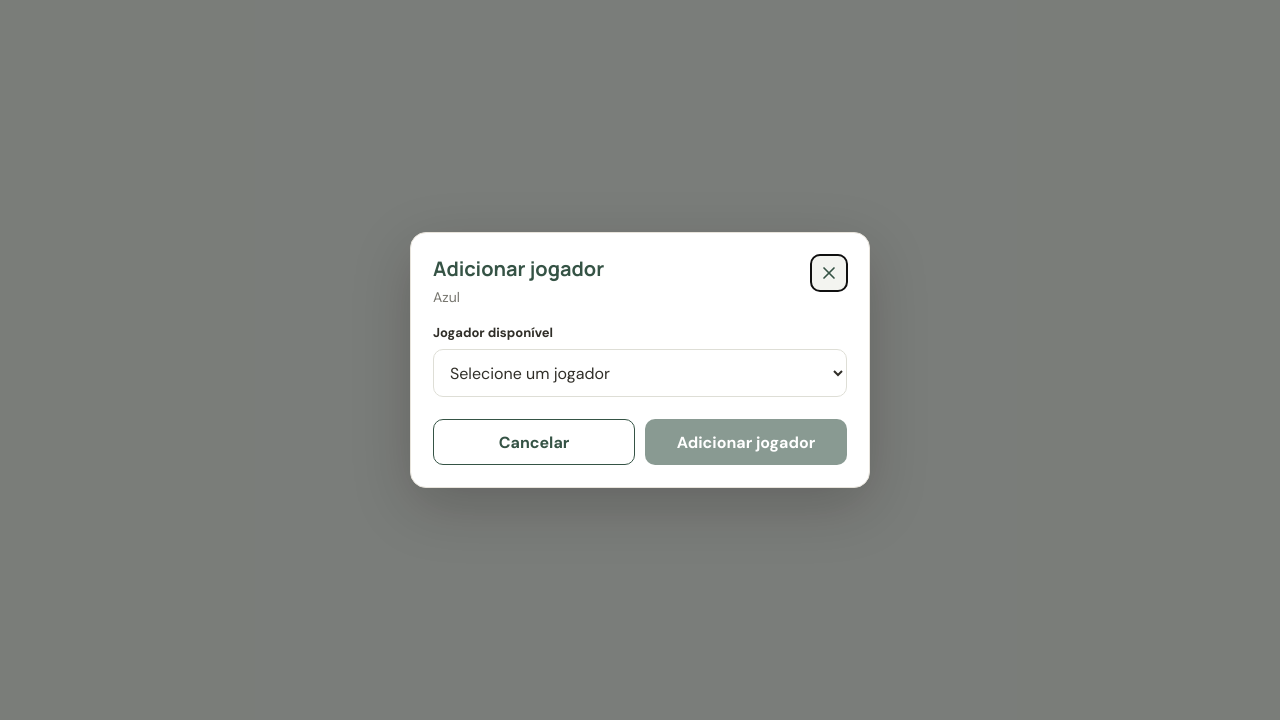
Test case: modal e integração da inclusão manual › exibe o texto retornado pelo backend sem fechar o modal
Select "Caio — Vaga de reserva" in the dropdown labelled "Jogador disponível" at coordinates (640, 373), box [433, 349, 847, 397]
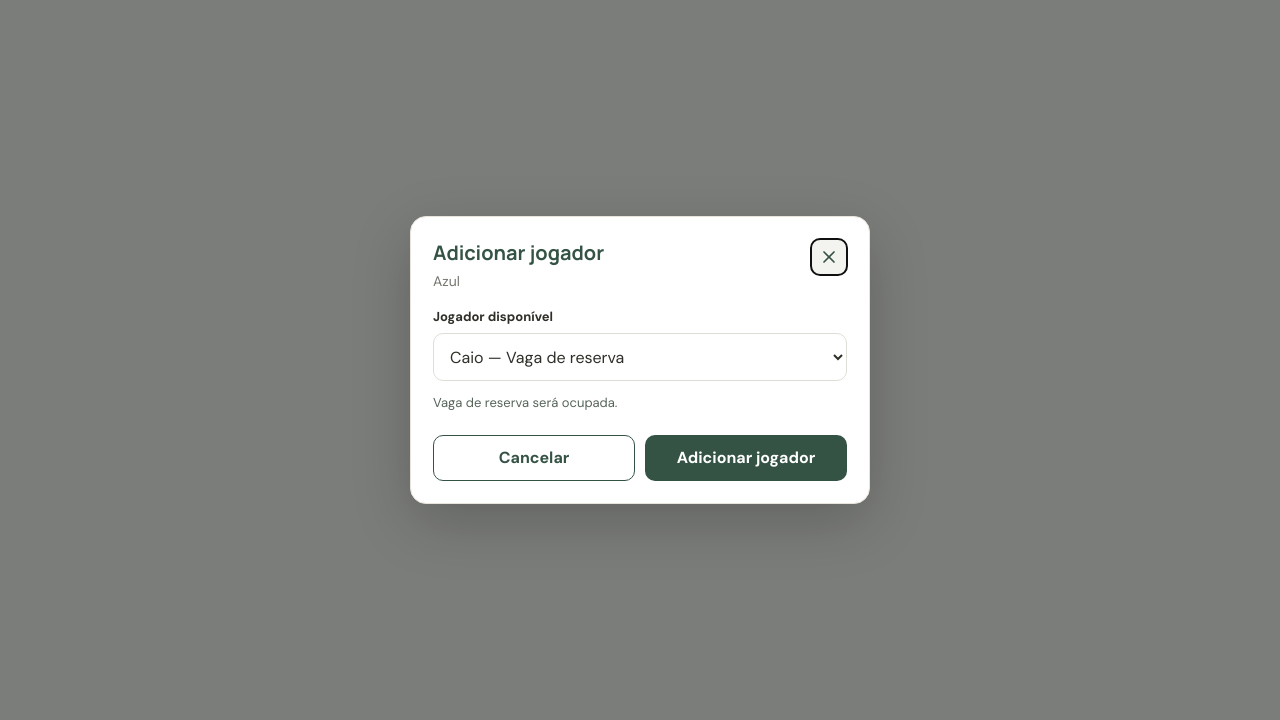
Click the button "Adicionar jogador".
click(746, 458)  # box [645, 435, 847, 481]
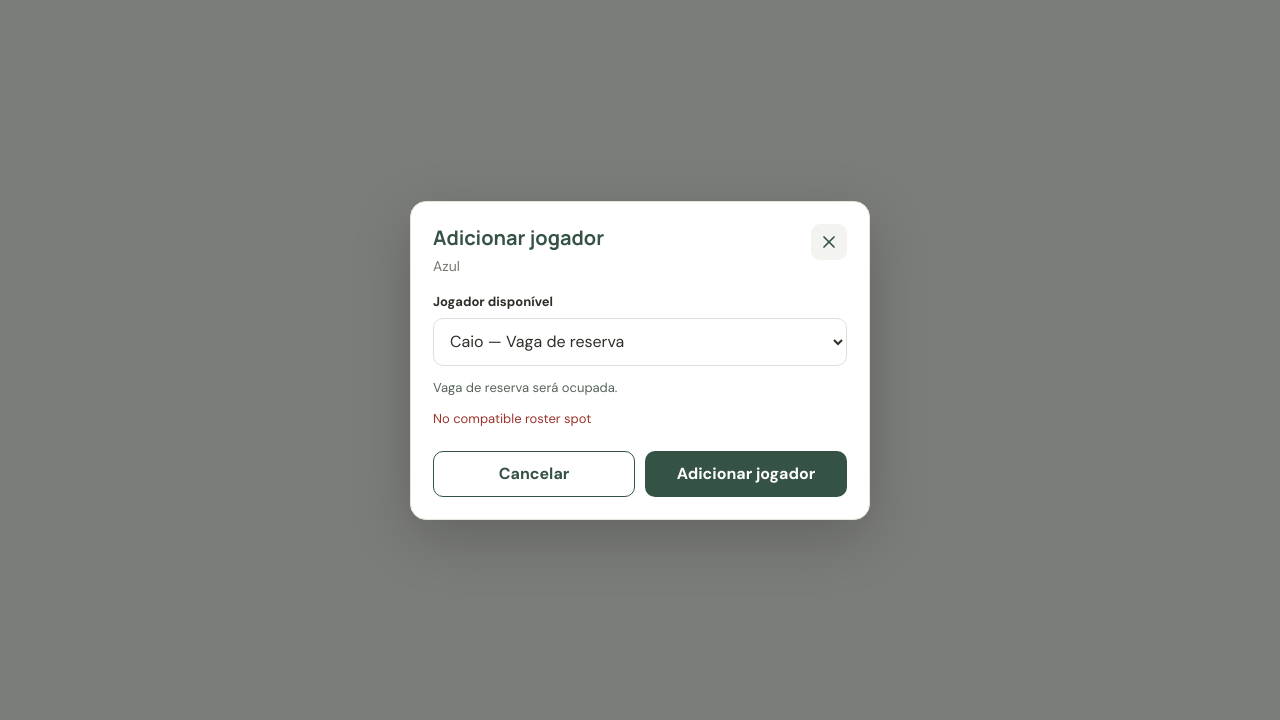
Expected: the dialog is shown, [410, 200, 870, 520]
Expected: the message "No compatible roster spot" is shown, [433, 410, 591, 427]
